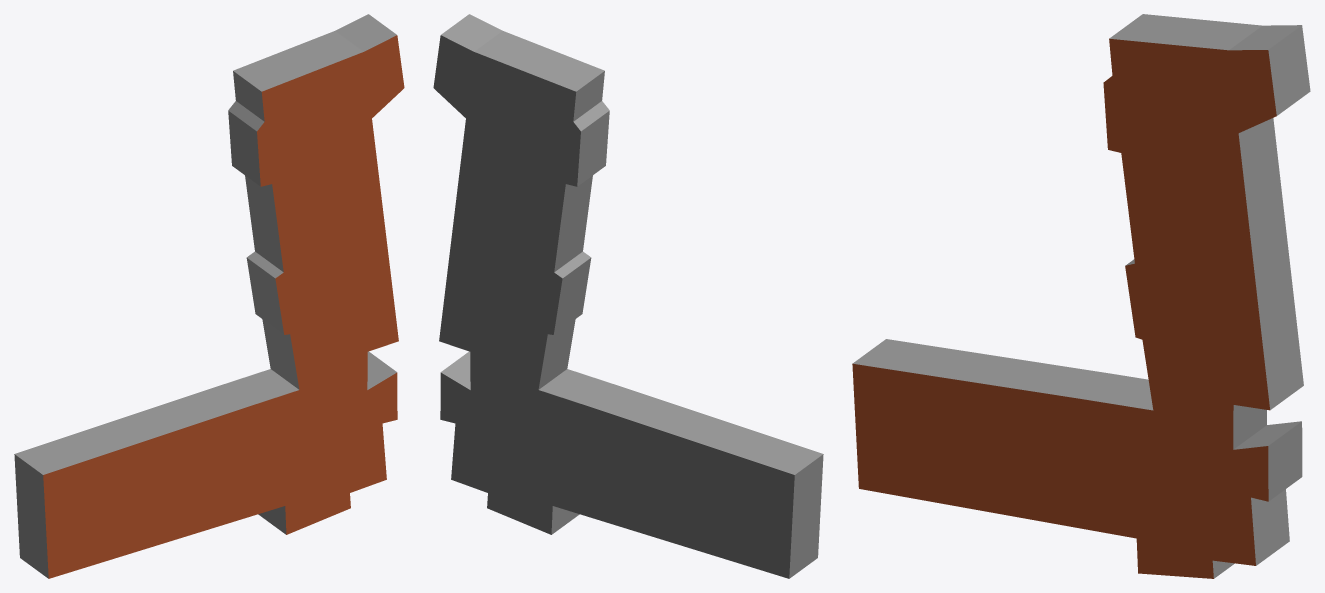
Rendered from construction_7088_assumed_A_Casa_h6m.obj.
3 views of the same model, side by side, from view 1: azimuth 30°, elevation 25°; view 2: azimuth 150°, elevation 25°; view 3: azimuth 330°, elevation 25° (orthographic). The views are drawn at different scales.
Parts seen in each view (by area): view 1: construction_7088_assumed_A_Casa; view 2: construction_7088_assumed_A_Casa; view 3: construction_7088_assumed_A_Casa.
Part boxes in pixels (x1,y1,x2,y2): construction_7088_assumed_A_Casa: [14, 14, 404, 578]; construction_7088_assumed_A_Casa: [433, 14, 823, 578]; construction_7088_assumed_A_Casa: [852, 14, 1310, 578].
Bounding box in the file's own units: 43.51 × 54.42 × 6.
